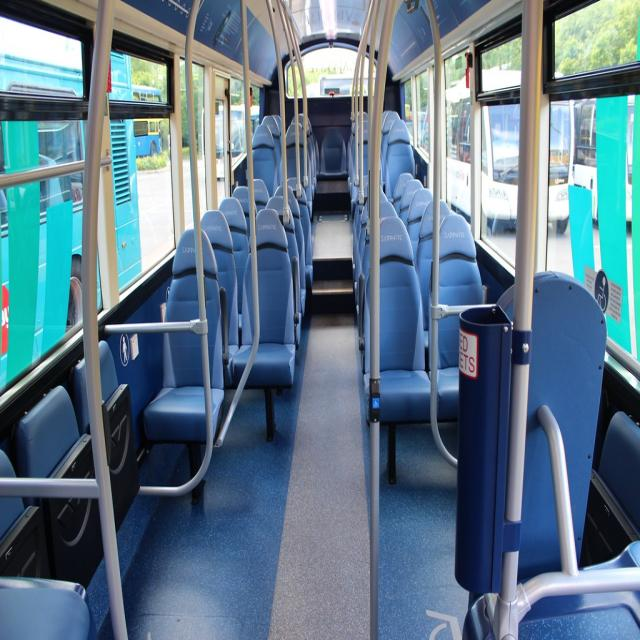empty-seat-frontal: (141, 227, 226, 450), (359, 218, 437, 428), (232, 209, 298, 387)
